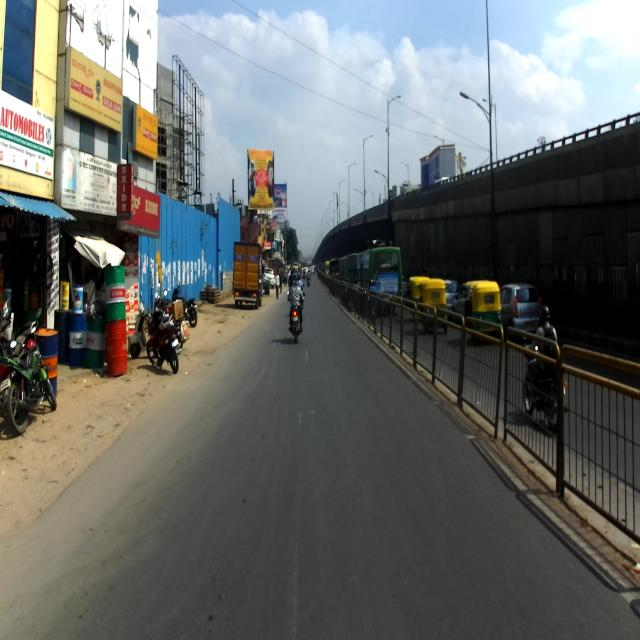motorcycle ahead at: (4, 320, 56, 430), (144, 303, 182, 375), (285, 269, 307, 344)
truck ahead at: (229, 238, 264, 312)
